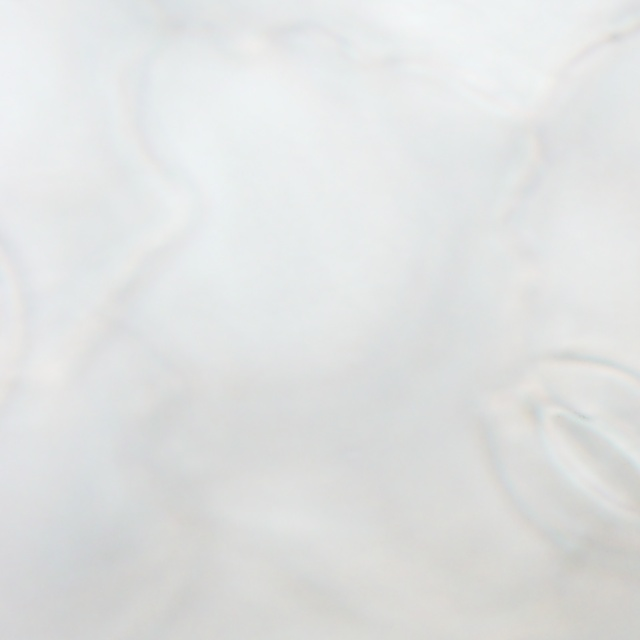stomata-huw1: (485, 355, 639, 563)
